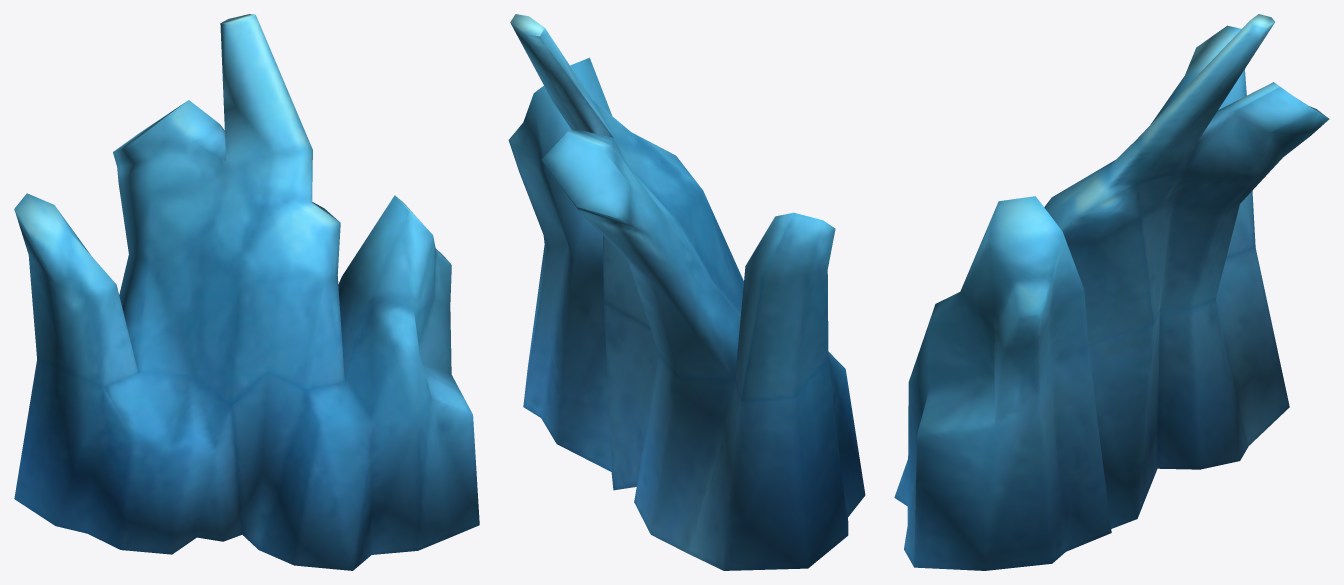
The model's file is Stage_BingYuan_BingLing04.FBX.
3 renders of one model, left to right at view 1: azimuth 30°, elevation 25°; view 2: azimuth 150°, elevation 25°; view 3: azimuth 270°, elevation 25°, orthographic. The views are drawn at different scales.
Visible parts, largest first — view 1: Stage_BingYuan_BingLing04; view 2: Stage_BingYuan_BingLing04; view 3: Stage_BingYuan_BingLing04.
Part boxes in pixels (<box>): Stage_BingYuan_BingLing04: <box>14,14,479,570</box>; Stage_BingYuan_BingLing04: <box>508,14,865,570</box>; Stage_BingYuan_BingLing04: <box>894,14,1329,570</box>.
Size of the model in its own units: 130 by 154 by 117.
